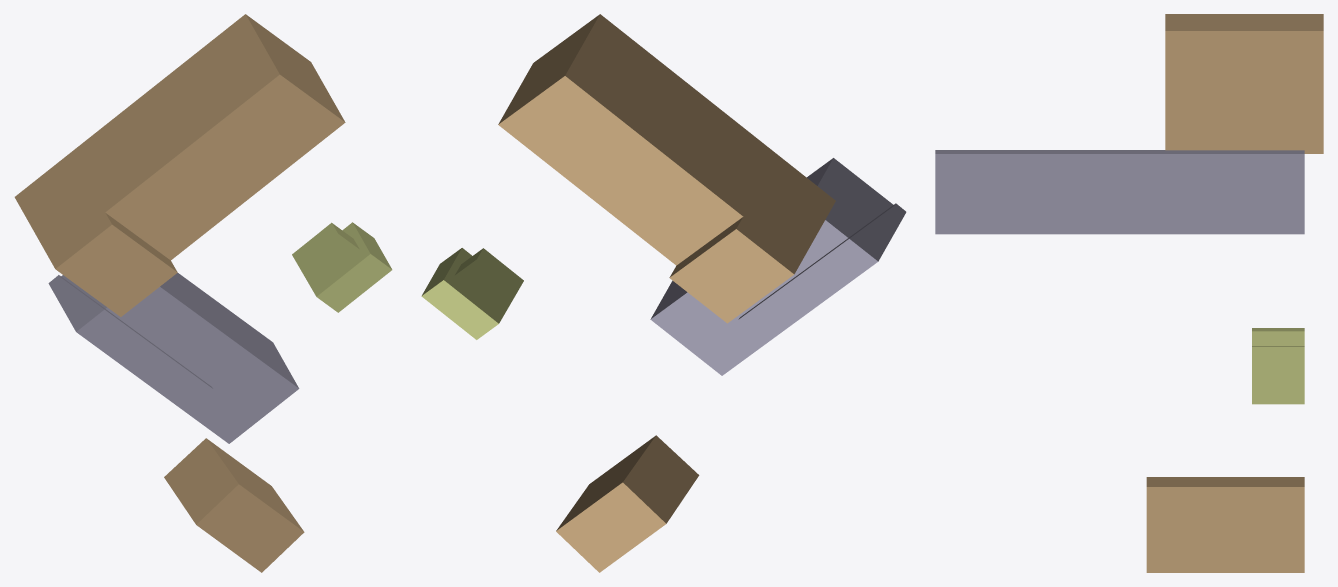
3 views of the same model, side by side, from view 1: azimuth 30°, elevation 25°; view 2: azimuth 150°, elevation 25°; view 3: azimuth 270°, elevation 25° (orthographic). The views are drawn at different scales.
Parts seen in each view (by area): view 1: 0_0_1_1_2_2_1_3; view 2: 0_0_1_1_2_2_1_3; view 3: 0_0_1_1_2_2_1_3.
Part boxes in pixels (x1,y1,x2,y2): 0_0_1_1_2_2_1_3: [14, 14, 392, 572]; 0_0_1_1_2_2_1_3: [421, 14, 906, 572]; 0_0_1_1_2_2_1_3: [935, 14, 1323, 572].
Bounding box in the file's own units: 82.75 × 112 × 66.2.
